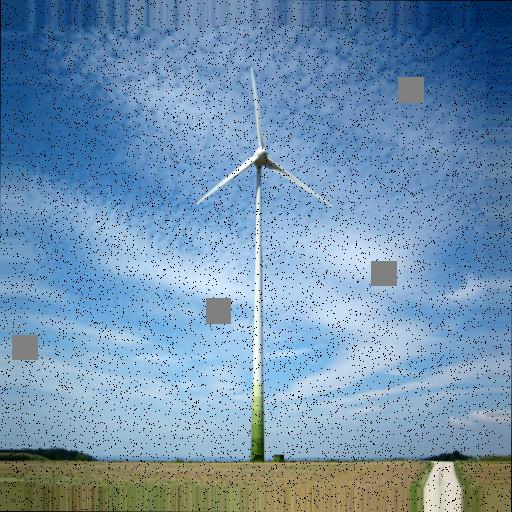wind turbine: (197, 65, 332, 463)
